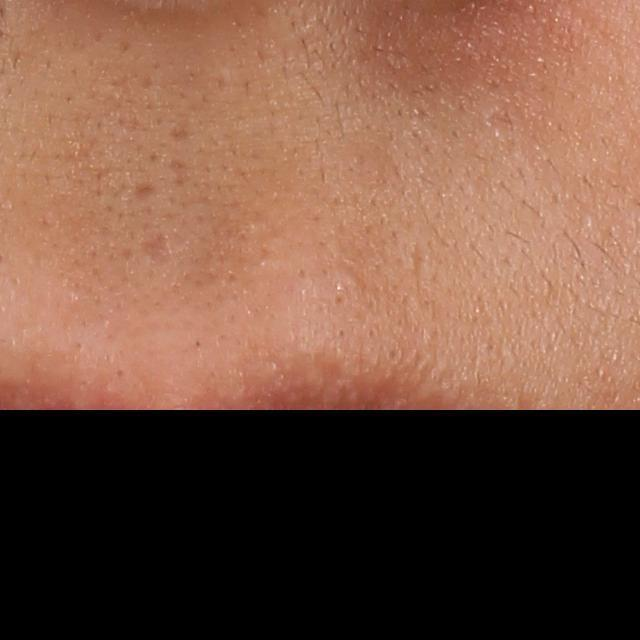atrophic_scar: (137, 237, 171, 265), (166, 115, 195, 145), (166, 152, 190, 187), (126, 180, 156, 199)
